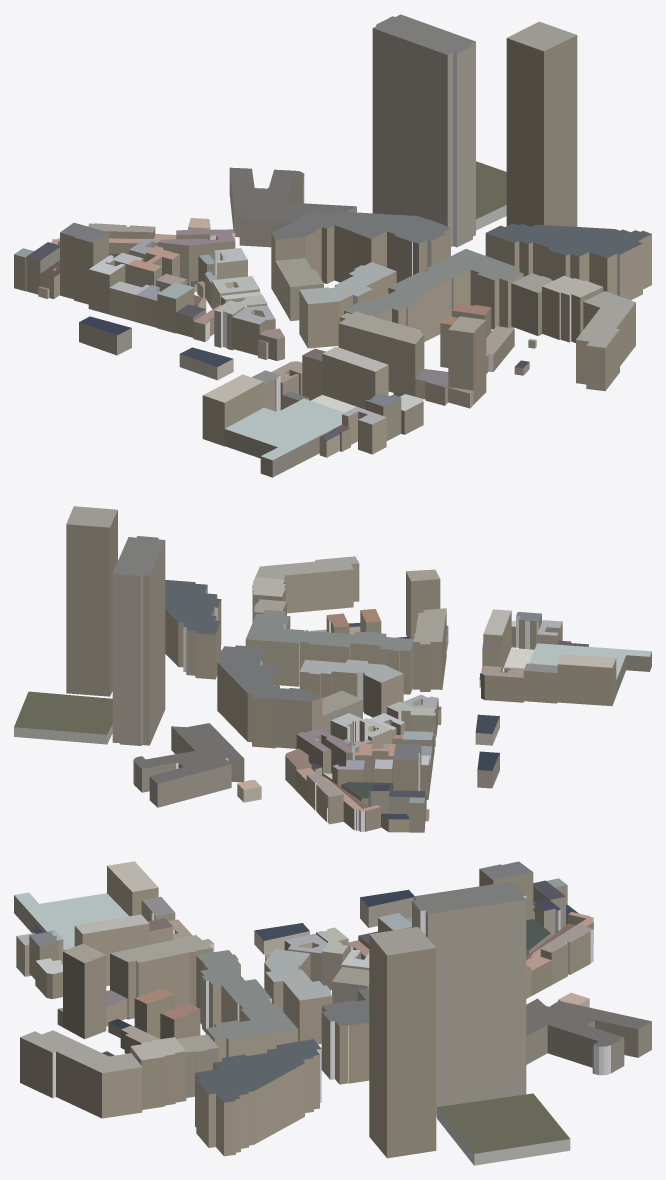
The picture shows the model from 3 angles, top to bottom: view 1: azimuth 30°, elevation 25°; view 2: azimuth 150°, elevation 25°; view 3: azimuth 270°, elevation 25°; orthographic projection. The views are drawn at different scales.
Visible parts, largest first — view 1: tuile; view 2: tuile; view 3: tuile.
Part boxes in pixels (left/top/right/bottom): tuile: left=14, top=14, right=651, bottom=477; tuile: left=14, top=506, right=651, bottom=832; tuile: left=14, top=861, right=651, bottom=1165.
Bounding box in the file's own units: 280 × 105 × 291.
